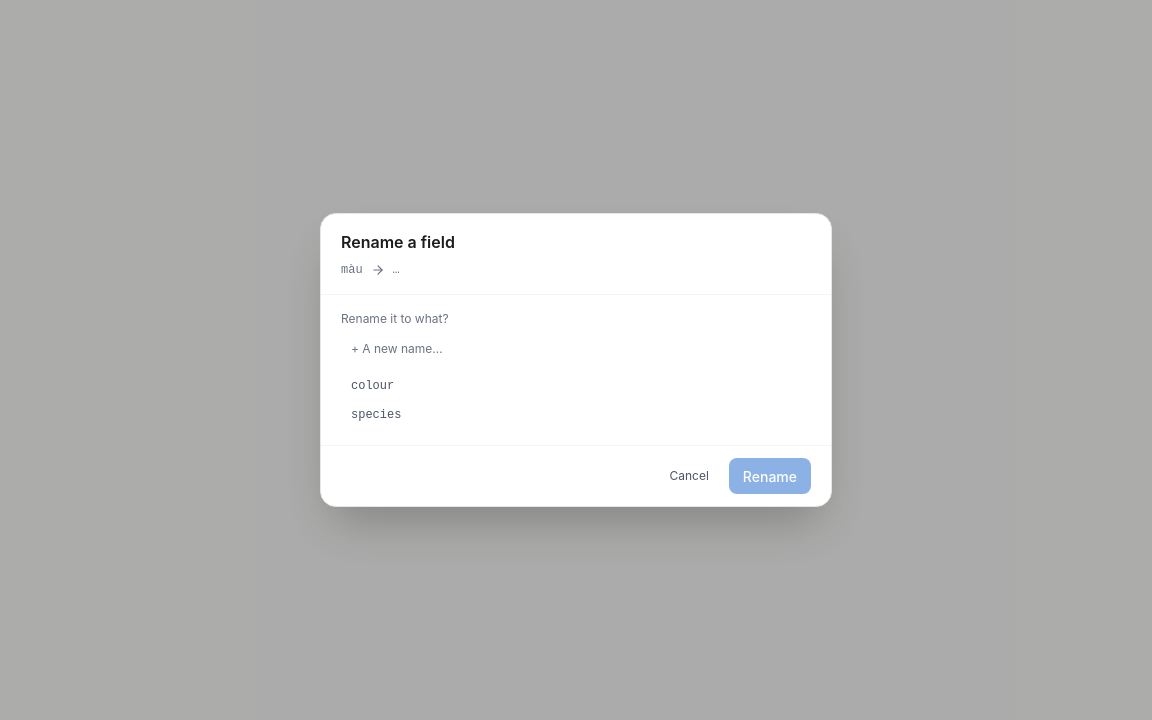
Scenario: merging one field into another › asks what would happen before offering to do it
Click the button "colour". click: (373, 386)
box: x1=341 y1=372 x2=811 y2=400
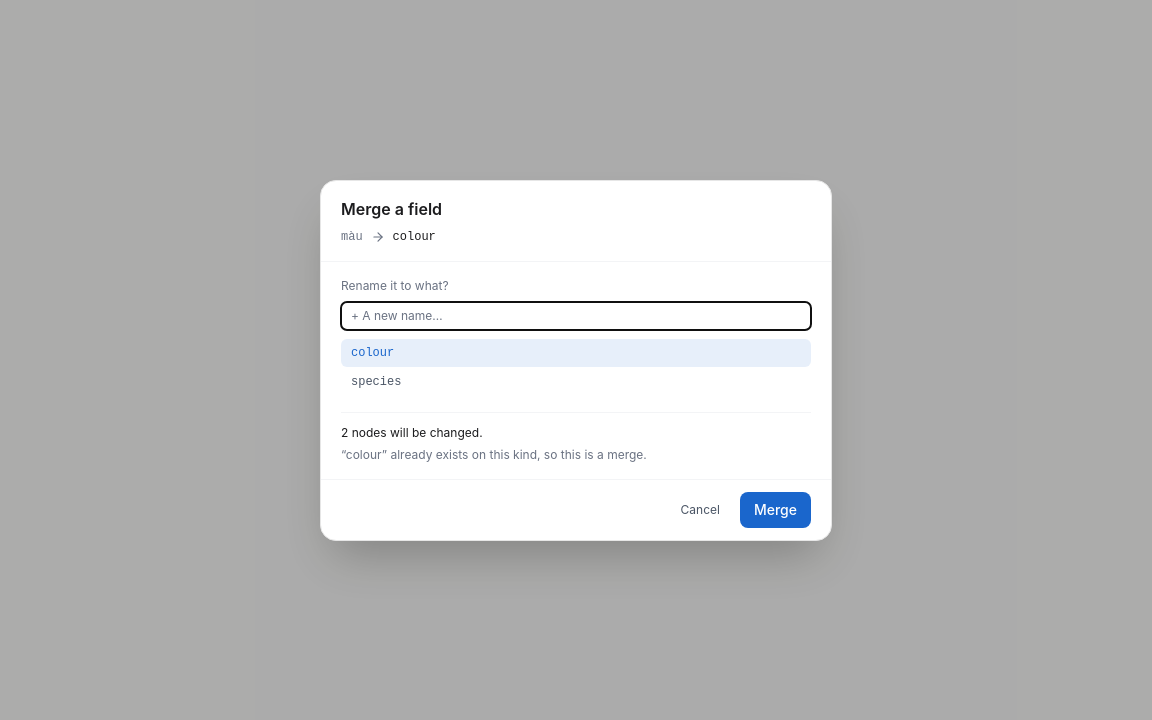
Result: the text "2 nodes will be changed." is shown at x1=341 y1=424 x2=483 y2=440
